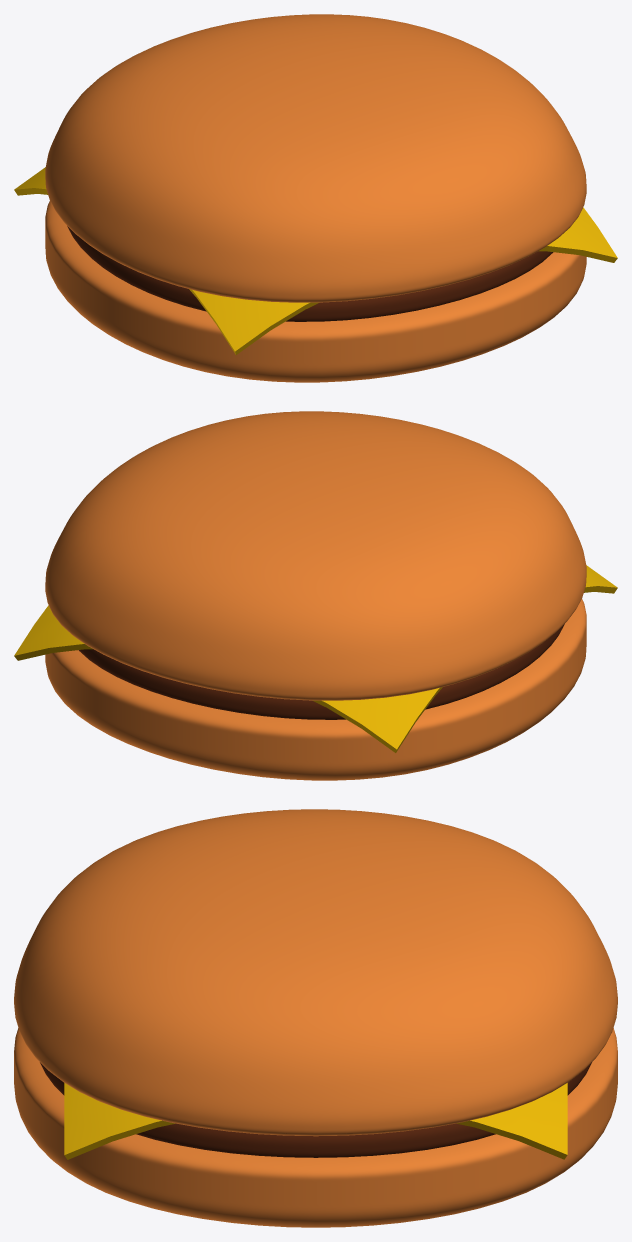
Rendered from hamburger.glb.
3 renders of one model, top to bottom at view 1: azimuth 30°, elevation 25°; view 2: azimuth 150°, elevation 25°; view 3: azimuth 270°, elevation 25°, orthographic. The views are drawn at different scales.
Parts seen in each view (by area): view 1: Cube.002, Cube, Cube.001, Plane; view 2: Cube.002, Cube, Cube.001, Plane; view 3: Cube.002, Cube, Cube.001, Plane.
Part boxes in pixels (x1,y1,x2,y2): Cube.002: (45, 14, 586, 302); Cube: (45, 201, 586, 382); Cube.001: (67, 226, 553, 321); Plane: (14, 167, 617, 354); Cube.002: (45, 411, 586, 700); Cube: (45, 599, 586, 780); Cube.001: (78, 624, 564, 719); Plane: (14, 565, 617, 752); Cube.002: (14, 809, 617, 1136); Cube: (14, 1028, 617, 1227); Cube.001: (40, 1062, 591, 1157); Plane: (64, 1083, 567, 1159).
Bounding box in the file's own units: 8.8 × 4.16 × 8.8.
